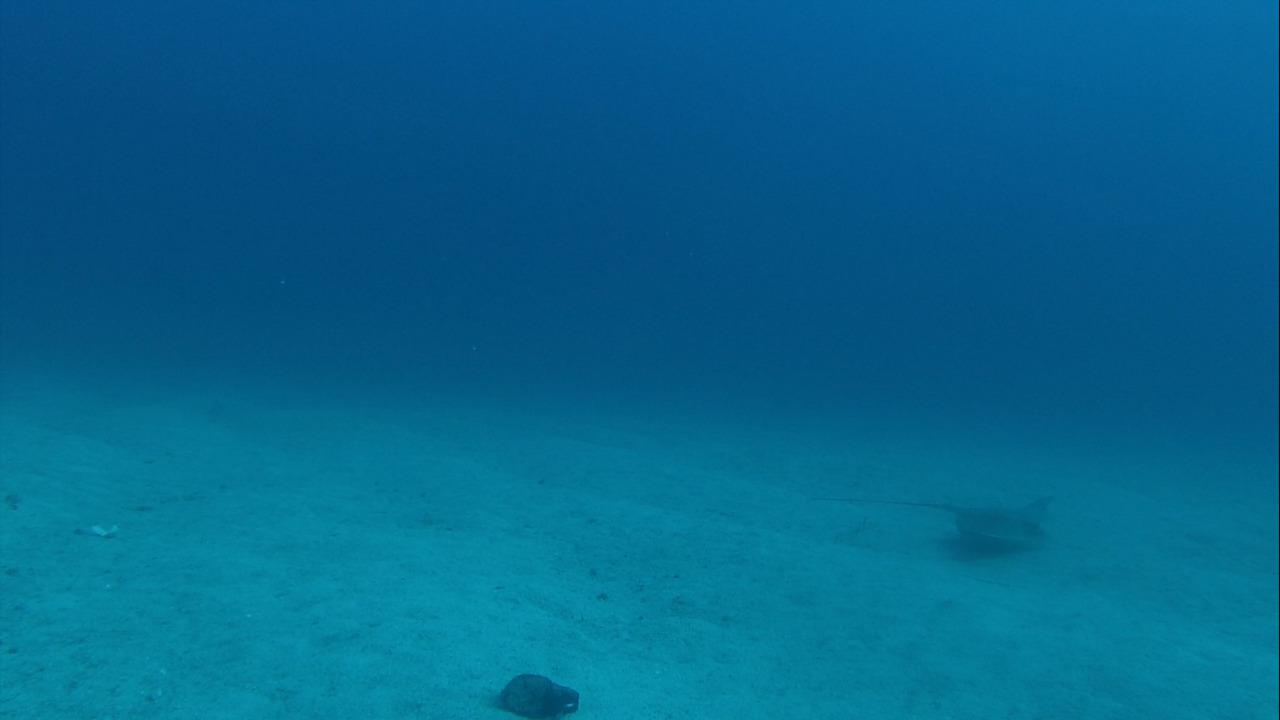myliobatis: (804, 478, 1057, 565)
